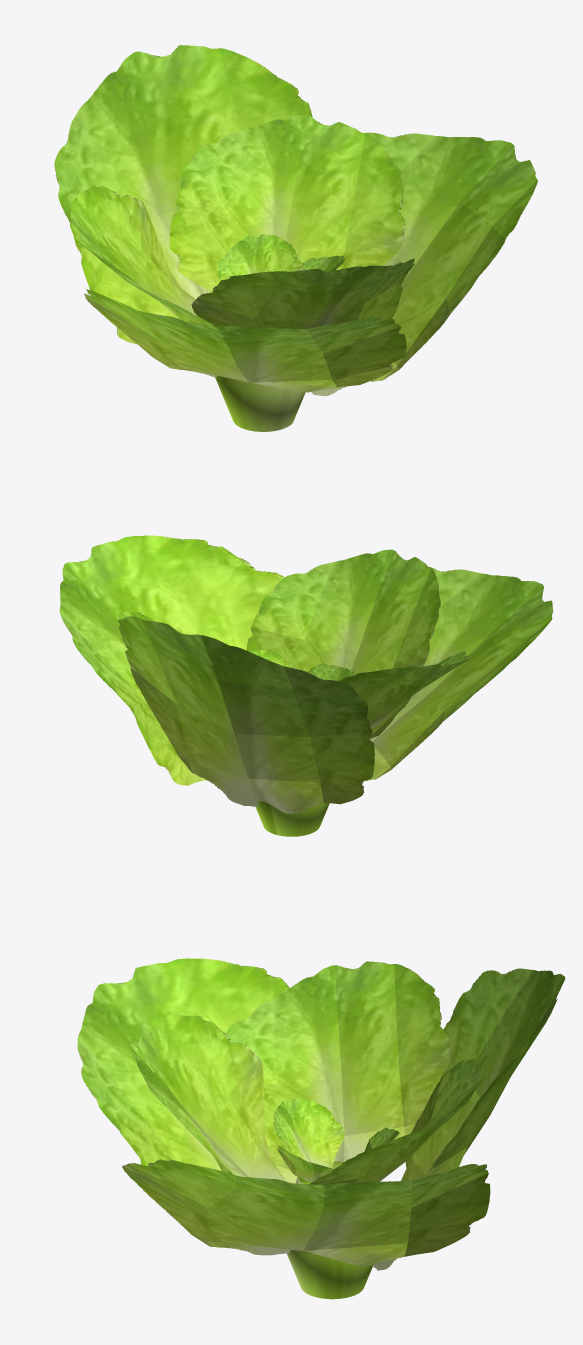
Rendered from lettuce.glb.
3 renders of one model, top to bottom at view 1: azimuth 30°, elevation 25°; view 2: azimuth 150°, elevation 25°; view 3: azimuth 270°, elevation 25°, orthographic. The views are drawn at different scales.
Visible parts, largest first — view 1: Marul_Material_0; view 2: Marul_Material_0; view 3: Marul_Material_0.
Part boxes in pixels (bbox=[...]): Marul_Material_0: bbox=[54, 45, 537, 431]; Marul_Material_0: bbox=[59, 535, 553, 836]; Marul_Material_0: bbox=[77, 958, 565, 1299].
Bounding box in the file's own units: 0.3462 × 0.202 × 0.3189.
Materials: 1 (1 with a texture image).
